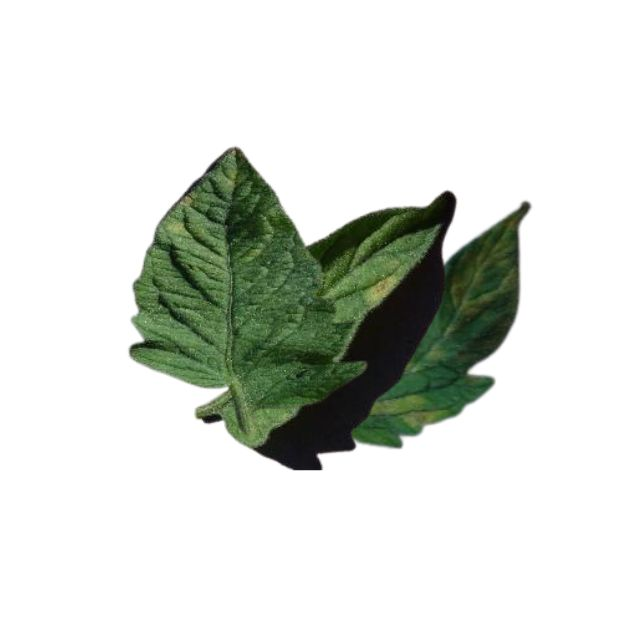Leaf_Mold: (448, 199, 531, 319), (367, 394, 452, 430), (163, 189, 198, 244), (357, 269, 402, 305)
